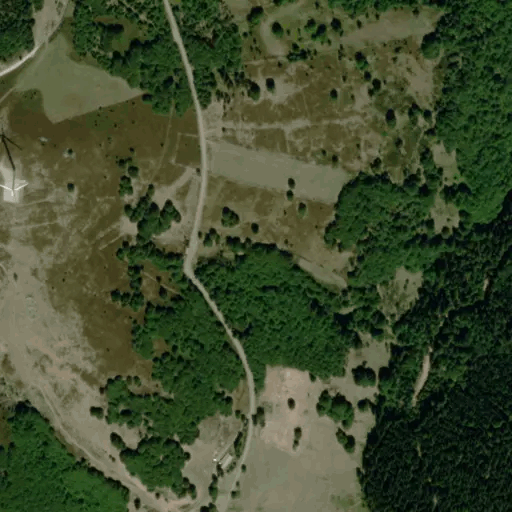wt: (1, 127, 32, 201)
